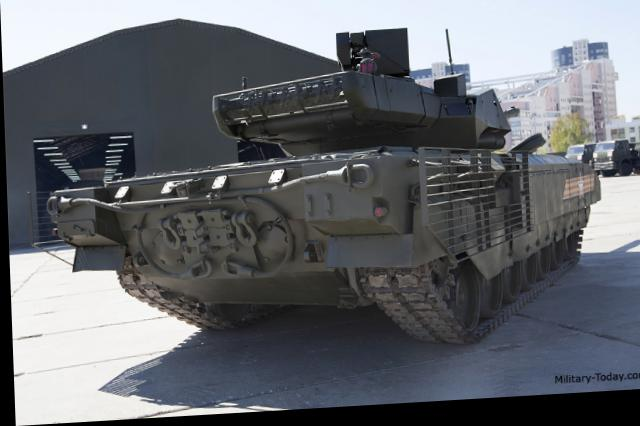tank: (48, 56, 609, 364)
